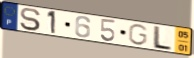1: (46, 10, 58, 36)
5: (100, 18, 116, 43)
6: (74, 16, 92, 39)
G: (127, 23, 149, 47)
L: (151, 25, 174, 52)
S: (19, 7, 42, 32)
